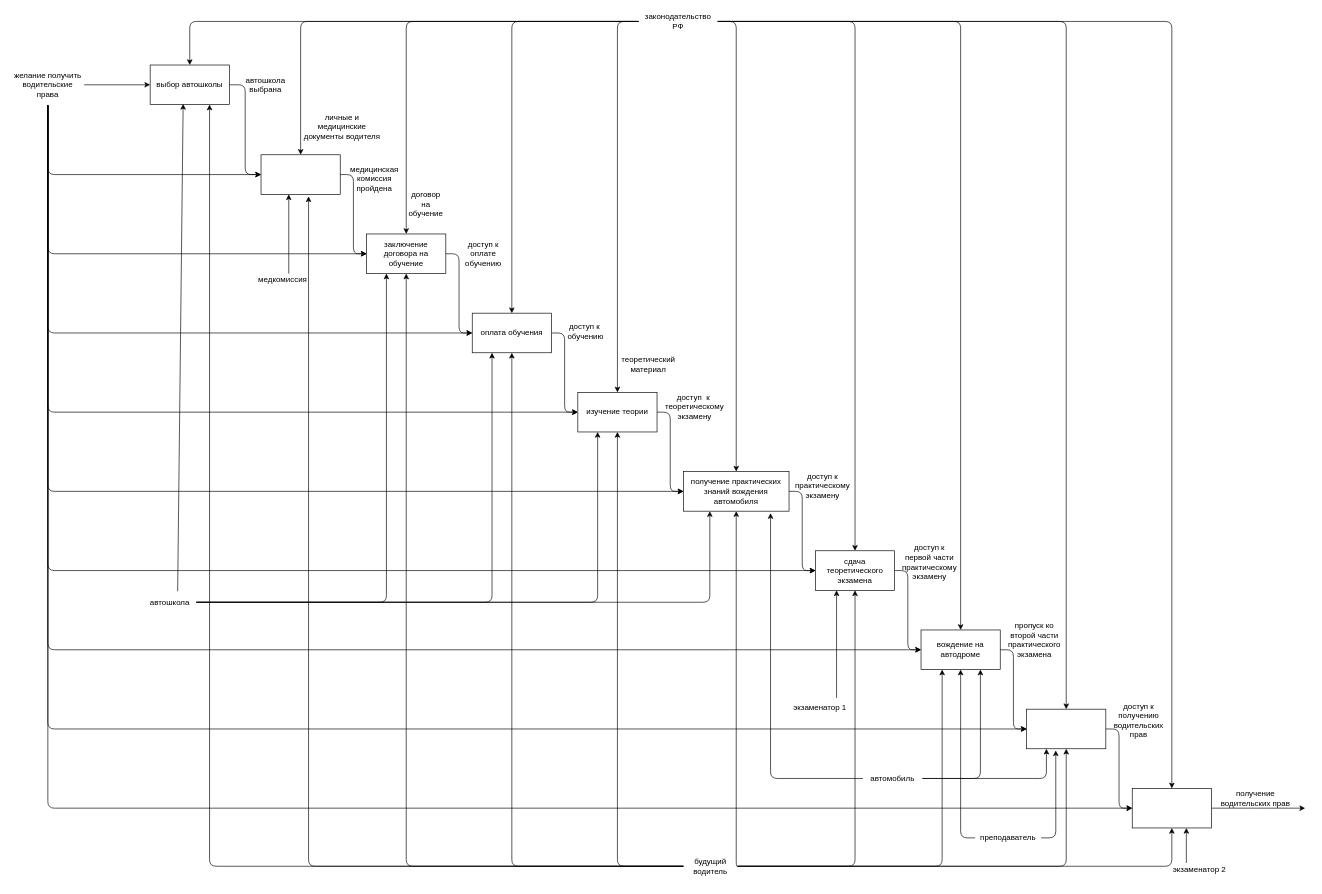
This 1322x894 diagram has some shape labels left out. Here are the shapes that lost their labels. From the top down, the centre of each, then its label:
At point 300,174: "прохождение медицинской комиссии".
At point 1066,729: "вождение в городе".
At point 1171,808: "успешная сдача всех экзаменов".
